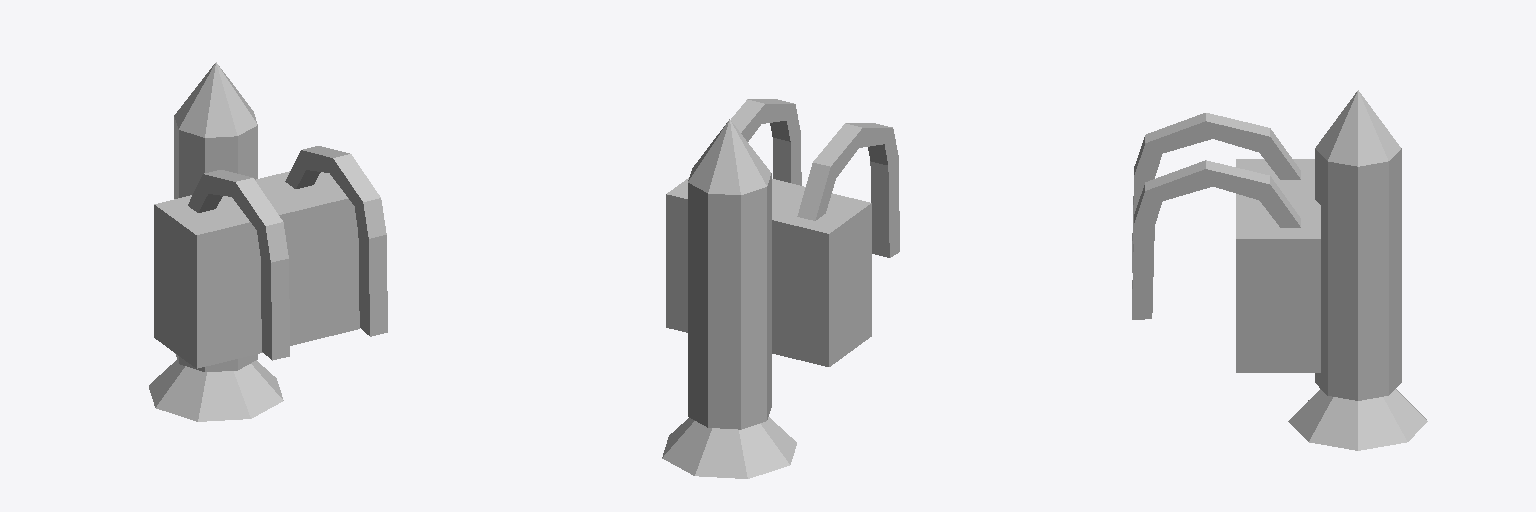
Rendered from jetpack_pickup.obj.
3 renders of one model, left to right at view 1: azimuth 30°, elevation 25°; view 2: azimuth 150°, elevation 25°; view 3: azimuth 270°, elevation 25°, orthographic.
Visible parts, largest first — view 1: Cube_Cube.001; view 2: Cube_Cube.001; view 3: Cube_Cube.001.
Part boxes in pixels (x1,y1,x2,y2): Cube_Cube.001: (149,62,387,421); Cube_Cube.001: (662,99,899,478); Cube_Cube.001: (1132,90,1427,450).
Size of the model in its own units: 2.82 by 5.48 by 4.44.